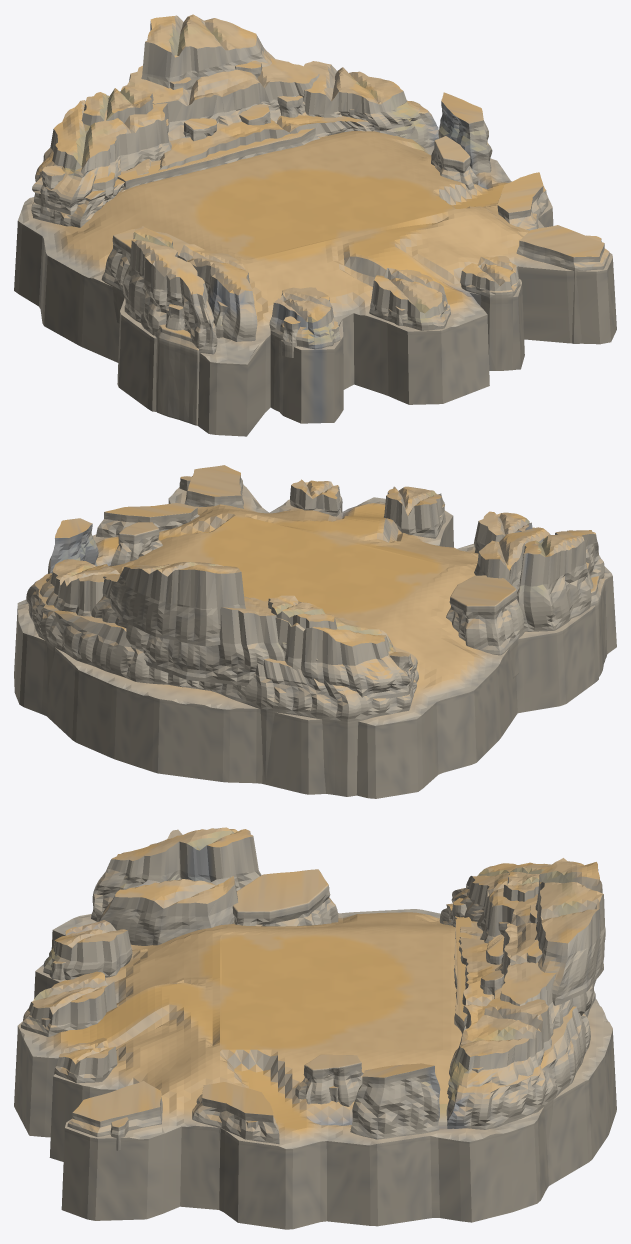
File: projects-island-v2-r6.glb
3 renders of one model, top to bottom at view 1: azimuth 30°, elevation 25°; view 2: azimuth 150°, elevation 25°; view 3: azimuth 270°, elevation 25°, orthographic. The views are drawn at different scales.
Visible parts, largest first — view 1: ProjectsIsland_V2_Continuous_Connected_Coast_And_Bedrock, ProjectsIsland_V2_Western_Broad_Second_Terrace, ProjectsIsland_V2_West_Front_Outer_Cleft_Buttress, ProjectsIsland_V2_Cannon_Continuous_Middle_Terrace, ProjectsIsland_V2_Rear_Connected_Low_Saddle, ProjectsIsland_V2_Cannon_Asymmetric_High_Plateau, ProjectsIsland_V2_East_Long_Lower_Shoulder, ProjectsIsland_V2_West_Front_Inner_Cleft_Buttress, ProjectsIsland_V2_Front_East_Short_Finger, ProjectsIsland_V2_Front_Central_Long_Finger, ProjectsIsland_V2_West_Toe_Grounded_Not_Hanging, ProjectsIsland_V2_Front_Left_Principal_Finger (+9 smaller); view 2: ProjectsIsland_V2_Continuous_Connected_Coast_And_Bedrock, ProjectsIsland_V2_Rear_Connected_Low_Saddle, ProjectsIsland_V2_Cannon_Asymmetric_High_Plateau, ProjectsIsland_V2_Cannon_Continuous_Middle_Terrace, ProjectsIsland_V2_Western_Broad_Second_Terrace, ProjectsIsland_V2_West_Front_Outer_Cleft_Buttress, ProjectsIsland_V2_West_Low_Shelf_Before_Cleft, ProjectsIsland_V2_East_Long_Lower_Shoulder, ProjectsIsland_V2_Front_Central_Long_Finger, ProjectsIsland_V2_West_Front_Inner_Cleft_Buttress, ProjectsIsland_V2_East_Ledge_North_Of_Access, ProjectsIsland_V2_Southeast_Low_Access_Headland (+6 smaller); view 3: ProjectsIsland_V2_Continuous_Connected_Coast_And_Bedrock, ProjectsIsland_V2_Rear_Connected_Low_Saddle, ProjectsIsland_V2_Cannon_Asymmetric_High_Plateau, ProjectsIsland_V2_West_Front_Outer_Cleft_Buttress, ProjectsIsland_V2_East_Long_Lower_Shoulder, ProjectsIsland_V2_West_Front_Inner_Cleft_Buttress, ProjectsIsland_V2_East_Waterfall_Channel_Rear_Bank, ProjectsIsland_V2_West_Low_Shelf_Before_Cleft, ProjectsIsland_V2_Cannon_Continuous_Middle_Terrace, ProjectsIsland_V2_Front_Central_Long_Finger, ProjectsIsland_V2_East_Ledge_North_Of_Access, ProjectsIsland_V2_Front_Left_Principal_Finger (+6 smaller).
Boxes of the visible parts, x1,y1,x2,y2 form: ProjectsIsland_V2_Continuous_Connected_Coast_And_Bedrock: (14, 131, 616, 436); ProjectsIsland_V2_Western_Broad_Second_Terrace: (32, 100, 171, 214); ProjectsIsland_V2_West_Front_Outer_Cleft_Buttress: (122, 226, 217, 361); ProjectsIsland_V2_Cannon_Continuous_Middle_Terrace: (121, 57, 341, 140); ProjectsIsland_V2_Rear_Connected_Low_Saddle: (31, 101, 438, 227); ProjectsIsland_V2_Cannon_Asymmetric_High_Plateau: (141, 14, 274, 88); ProjectsIsland_V2_East_Long_Lower_Shoulder: (303, 61, 420, 135); ProjectsIsland_V2_West_Front_Inner_Cleft_Buttress: (177, 244, 257, 341); ProjectsIsland_V2_Front_East_Short_Finger: (460, 256, 520, 370); ProjectsIsland_V2_Front_Central_Long_Finger: (369, 268, 450, 330); ProjectsIsland_V2_West_Toe_Grounded_Not_Hanging: (155, 324, 199, 425); ProjectsIsland_V2_Front_Left_Principal_Finger: (269, 287, 335, 411); ProjectsIsland_V2_Continuous_Connected_Coast_And_Bedrock: (14, 484, 616, 798); ProjectsIsland_V2_Rear_Connected_Low_Saddle: (26, 573, 418, 796); ProjectsIsland_V2_Cannon_Asymmetric_High_Plateau: (110, 562, 245, 646); ProjectsIsland_V2_Cannon_Continuous_Middle_Terrace: (91, 574, 284, 685); ProjectsIsland_V2_Western_Broad_Second_Terrace: (265, 601, 417, 701); ProjectsIsland_V2_West_Front_Outer_Cleft_Buttress: (516, 530, 604, 631); ProjectsIsland_V2_West_Low_Shelf_Before_Cleft: (446, 575, 524, 678); ProjectsIsland_V2_East_Long_Lower_Shoulder: (39, 559, 120, 616); ProjectsIsland_V2_Front_Central_Long_Finger: (383, 486, 444, 538); ProjectsIsland_V2_West_Front_Inner_Cleft_Buttress: (474, 527, 550, 591); ProjectsIsland_V2_East_Ledge_North_Of_Access: (96, 503, 199, 537); ProjectsIsland_V2_Southeast_Low_Access_Headland: (184, 465, 243, 508); ProjectsIsland_V2_Continuous_Connected_Coast_And_Bedrock: (14, 909, 616, 1229); ProjectsIsland_V2_Rear_Connected_Low_Saddle: (439, 903, 590, 1159); ProjectsIsland_V2_Cannon_Asymmetric_High_Plateau: (535, 858, 605, 1005); ProjectsIsland_V2_West_Front_Outer_Cleft_Buttress: (91, 827, 261, 921); ProjectsIsland_V2_East_Long_Lower_Shoulder: (447, 997, 551, 1095); ProjectsIsland_V2_West_Front_Inner_Cleft_Buttress: (98, 876, 238, 945); ProjectsIsland_V2_East_Waterfall_Channel_Rear_Bank: (350, 1063, 440, 1139); ProjectsIsland_V2_West_Low_Shelf_Before_Cleft: (232, 869, 338, 926); ProjectsIsland_V2_Cannon_Continuous_Middle_Terrace: (495, 894, 596, 1036); ProjectsIsland_V2_Front_Central_Long_Finger: (21, 971, 116, 1036); ProjectsIsland_V2_East_Ledge_North_Of_Access: (192, 1082, 279, 1147); ProjectsIsland_V2_Front_Left_Principal_Finger: (43, 920, 132, 979).
Size of the model in its own units: 68.72 by 29.42 by 70.88.
